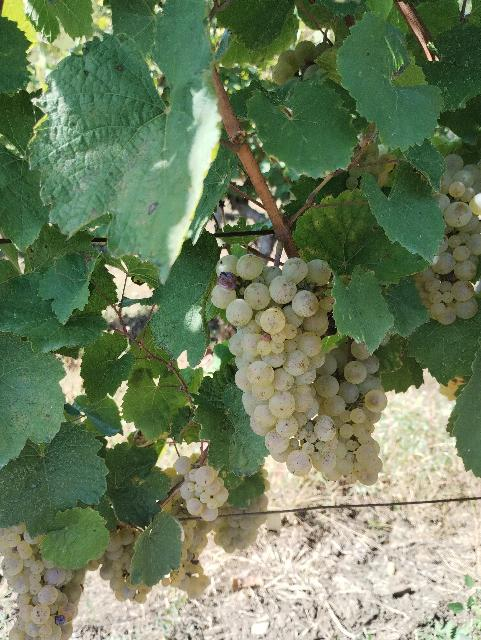grapes: (211, 254, 336, 476), (414, 154, 481, 325), (314, 340, 386, 484), (0, 522, 85, 640), (174, 455, 229, 522)
